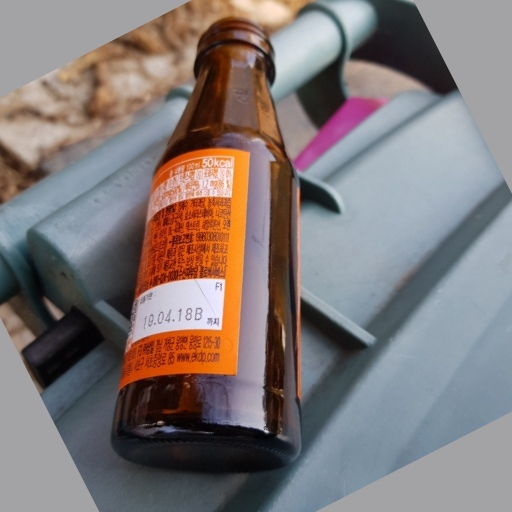Glass_3: (106, 17, 309, 470)
